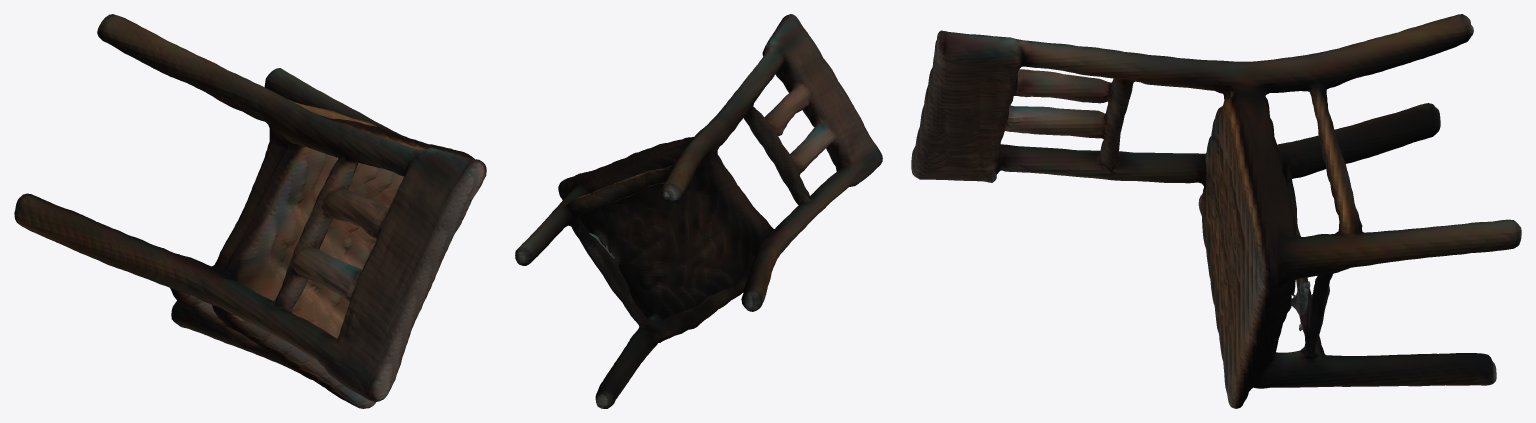
File: awoodenchair,frontview1714526598.obj
3 views of the same model, side by side, from view 1: azimuth 30°, elevation 25°; view 2: azimuth 150°, elevation 25°; view 3: azimuth 270°, elevation 25° (orthographic). The views are drawn at different scales.
Size of the model in its own units: 0.6759 by 0.6282 by 0.9743.
